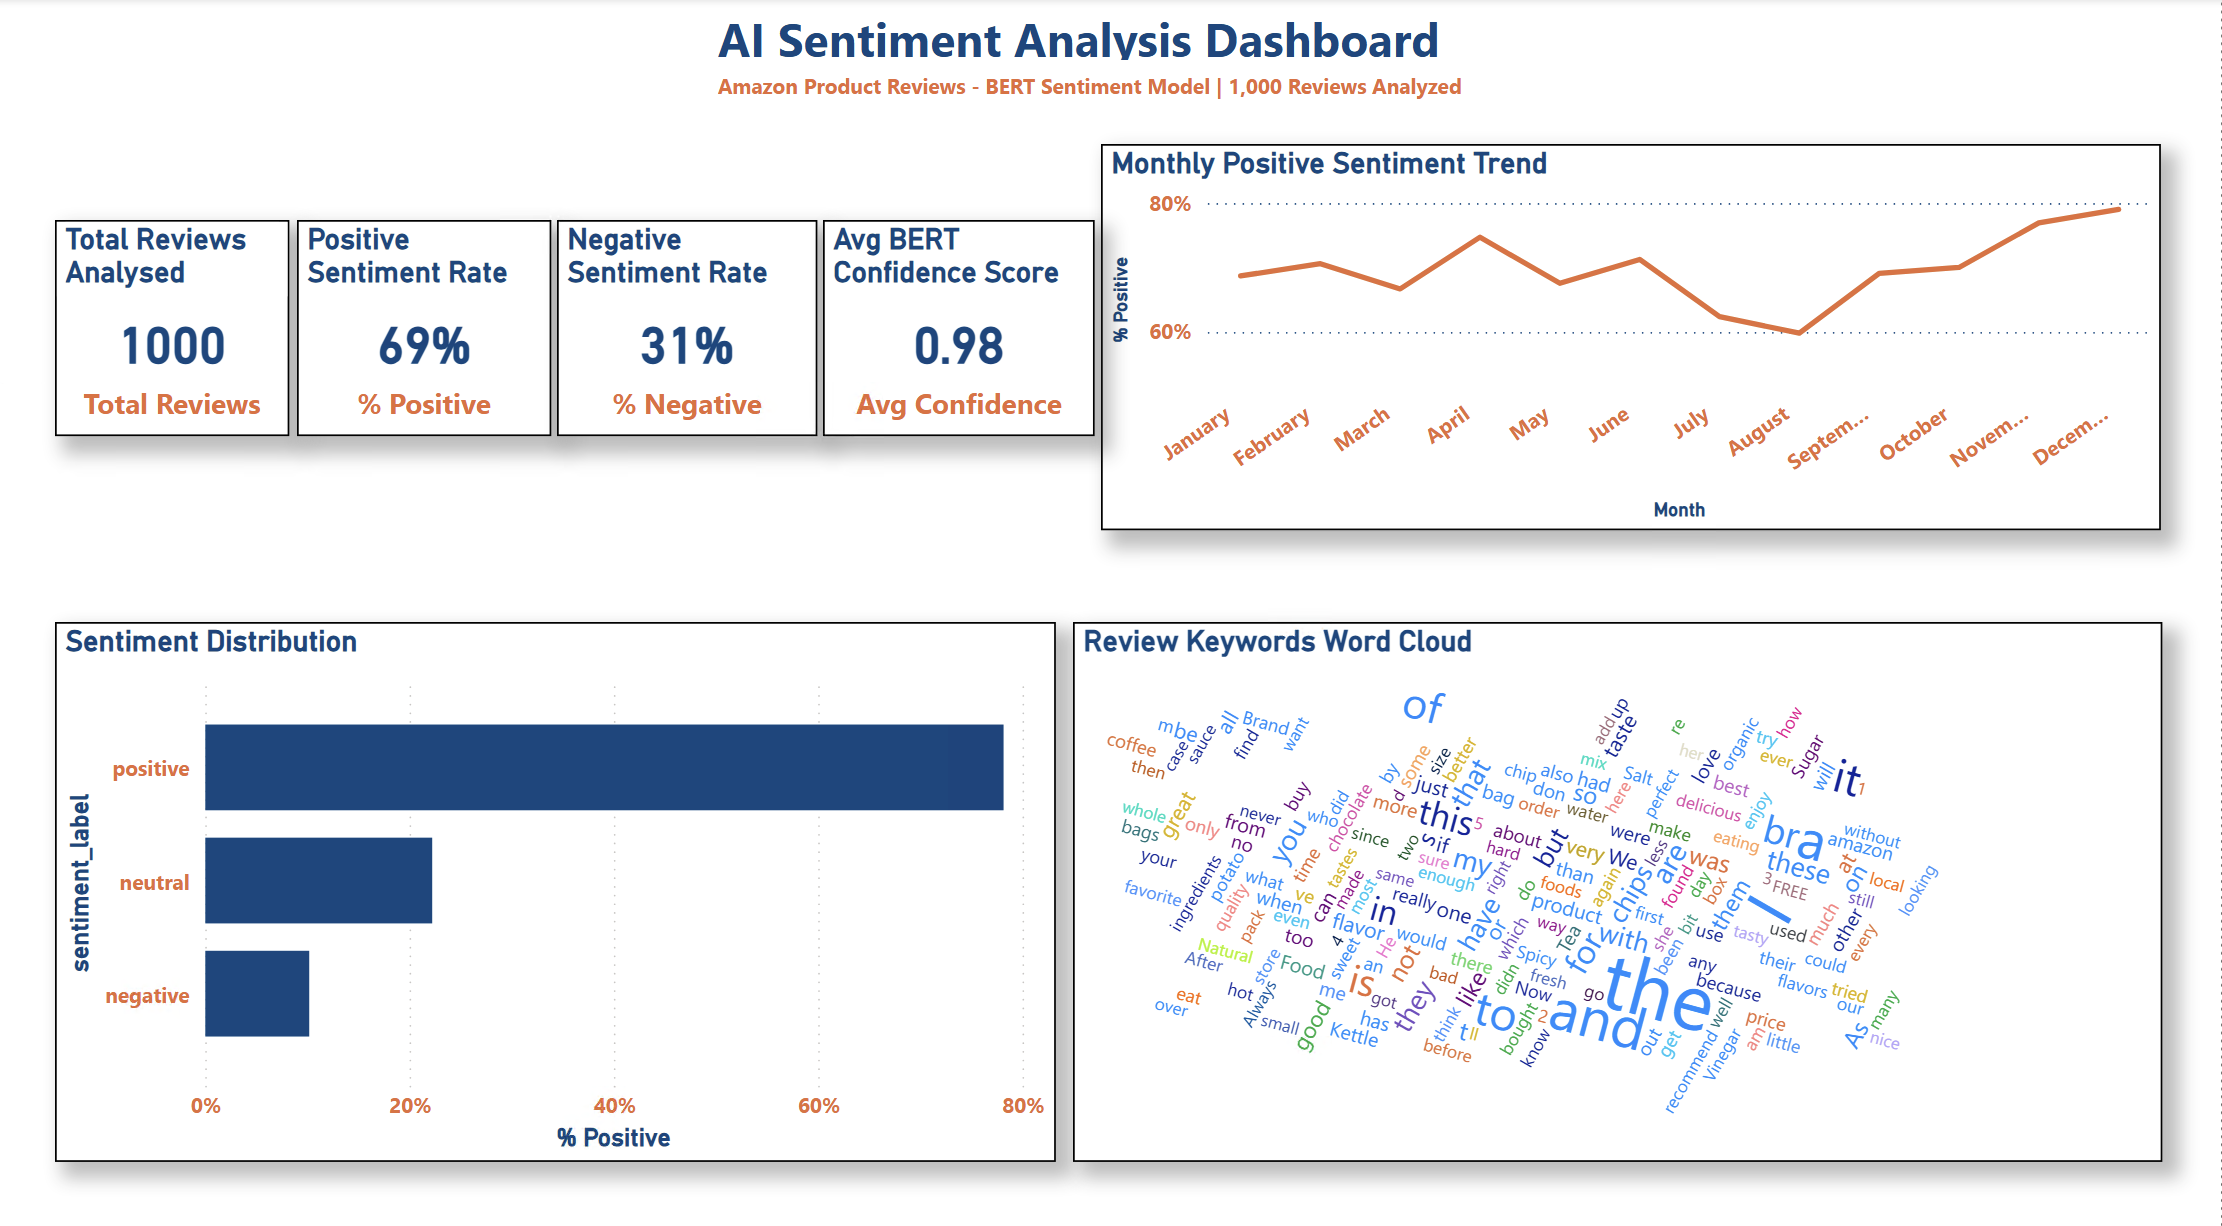

The page's visual inventory and layout, read from the dashboard file:
{"tool":"powerbi","page":{"name":"Page 1","canvas":[1280,720],"ordinal":0},"visuals":[{"type":"card","title":"Total Reviews Analysed","fields":{"Values":["reviews_bert.Total Reviews"]},"box":[32.3,127.9,134.8,124.4],"z":0},{"type":"card","title":"Positive Sentiment Rate","fields":{"Values":["reviews_bert.% Positive"]},"box":[171.6,127.9,146.3,124.4],"z":1000},{"type":"card","title":"Negative Sentiment Rate","fields":{"Values":["reviews_bert.% Negative"]},"box":[321.4,127.9,149.8,124.4],"z":2000},{"type":"clusteredBarChart","title":"Sentiment Distribution","fields":{"Y":["reviews_bert.% Positive"],"Category":["reviews_bert.sentiment_label"]},"box":[31.9,359.5,576.3,311.1],"z":3000},{"type":"lineChart","title":"Monthly Positive Sentiment Trend","fields":{"Category":["reviews_bert.ReviewDate.Variation.Date Hierarchy.Month"],"Y":["reviews_bert.% Positive"]},"box":[634.8,84.1,610.6,222.3],"z":4000},{"type":"textbox","box":[409,0,529.9,54.1],"z":5000},{"type":"textbox","box":[409.2,35.7,470.4,35.7],"z":6000},{"type":"card","title":"Avg BERT Confidence Score","fields":{"Values":["reviews_bert.Avg Confidence"]},"box":[474.6,127.9,156.7,124.4],"z":7000},{"type":"WordCloud1447959067750","title":"Review Keywords Word Cloud","fields":{"Category":["reviews_bert.Text"],"Values":["CountNonNull(reviews_bert.Id)"]},"box":[618.3,359.5,627.3,311.1],"z":8000}]}

Visuals, with their boxes in screenshot pixels (x1, y1, x2, y2), scaled from the page's 1280x720 canvas onto the 2222x1226 screenshot:
"Total Reviews Analysed" card: l=56, t=218, r=290, b=430
"Positive Sentiment Rate" card: l=298, t=218, r=552, b=430
"Negative Sentiment Rate" card: l=558, t=218, r=818, b=430
"Sentiment Distribution" clusteredBarChart: l=55, t=612, r=1056, b=1142
"Monthly Positive Sentiment Trend" lineChart: l=1102, t=143, r=2162, b=522
textbox: l=710, t=0, r=1630, b=92
textbox: l=710, t=61, r=1527, b=122
"Avg BERT Confidence Score" card: l=824, t=218, r=1096, b=430
"Review Keywords Word Cloud" WordCloud1447959067750: l=1073, t=612, r=2162, b=1142
